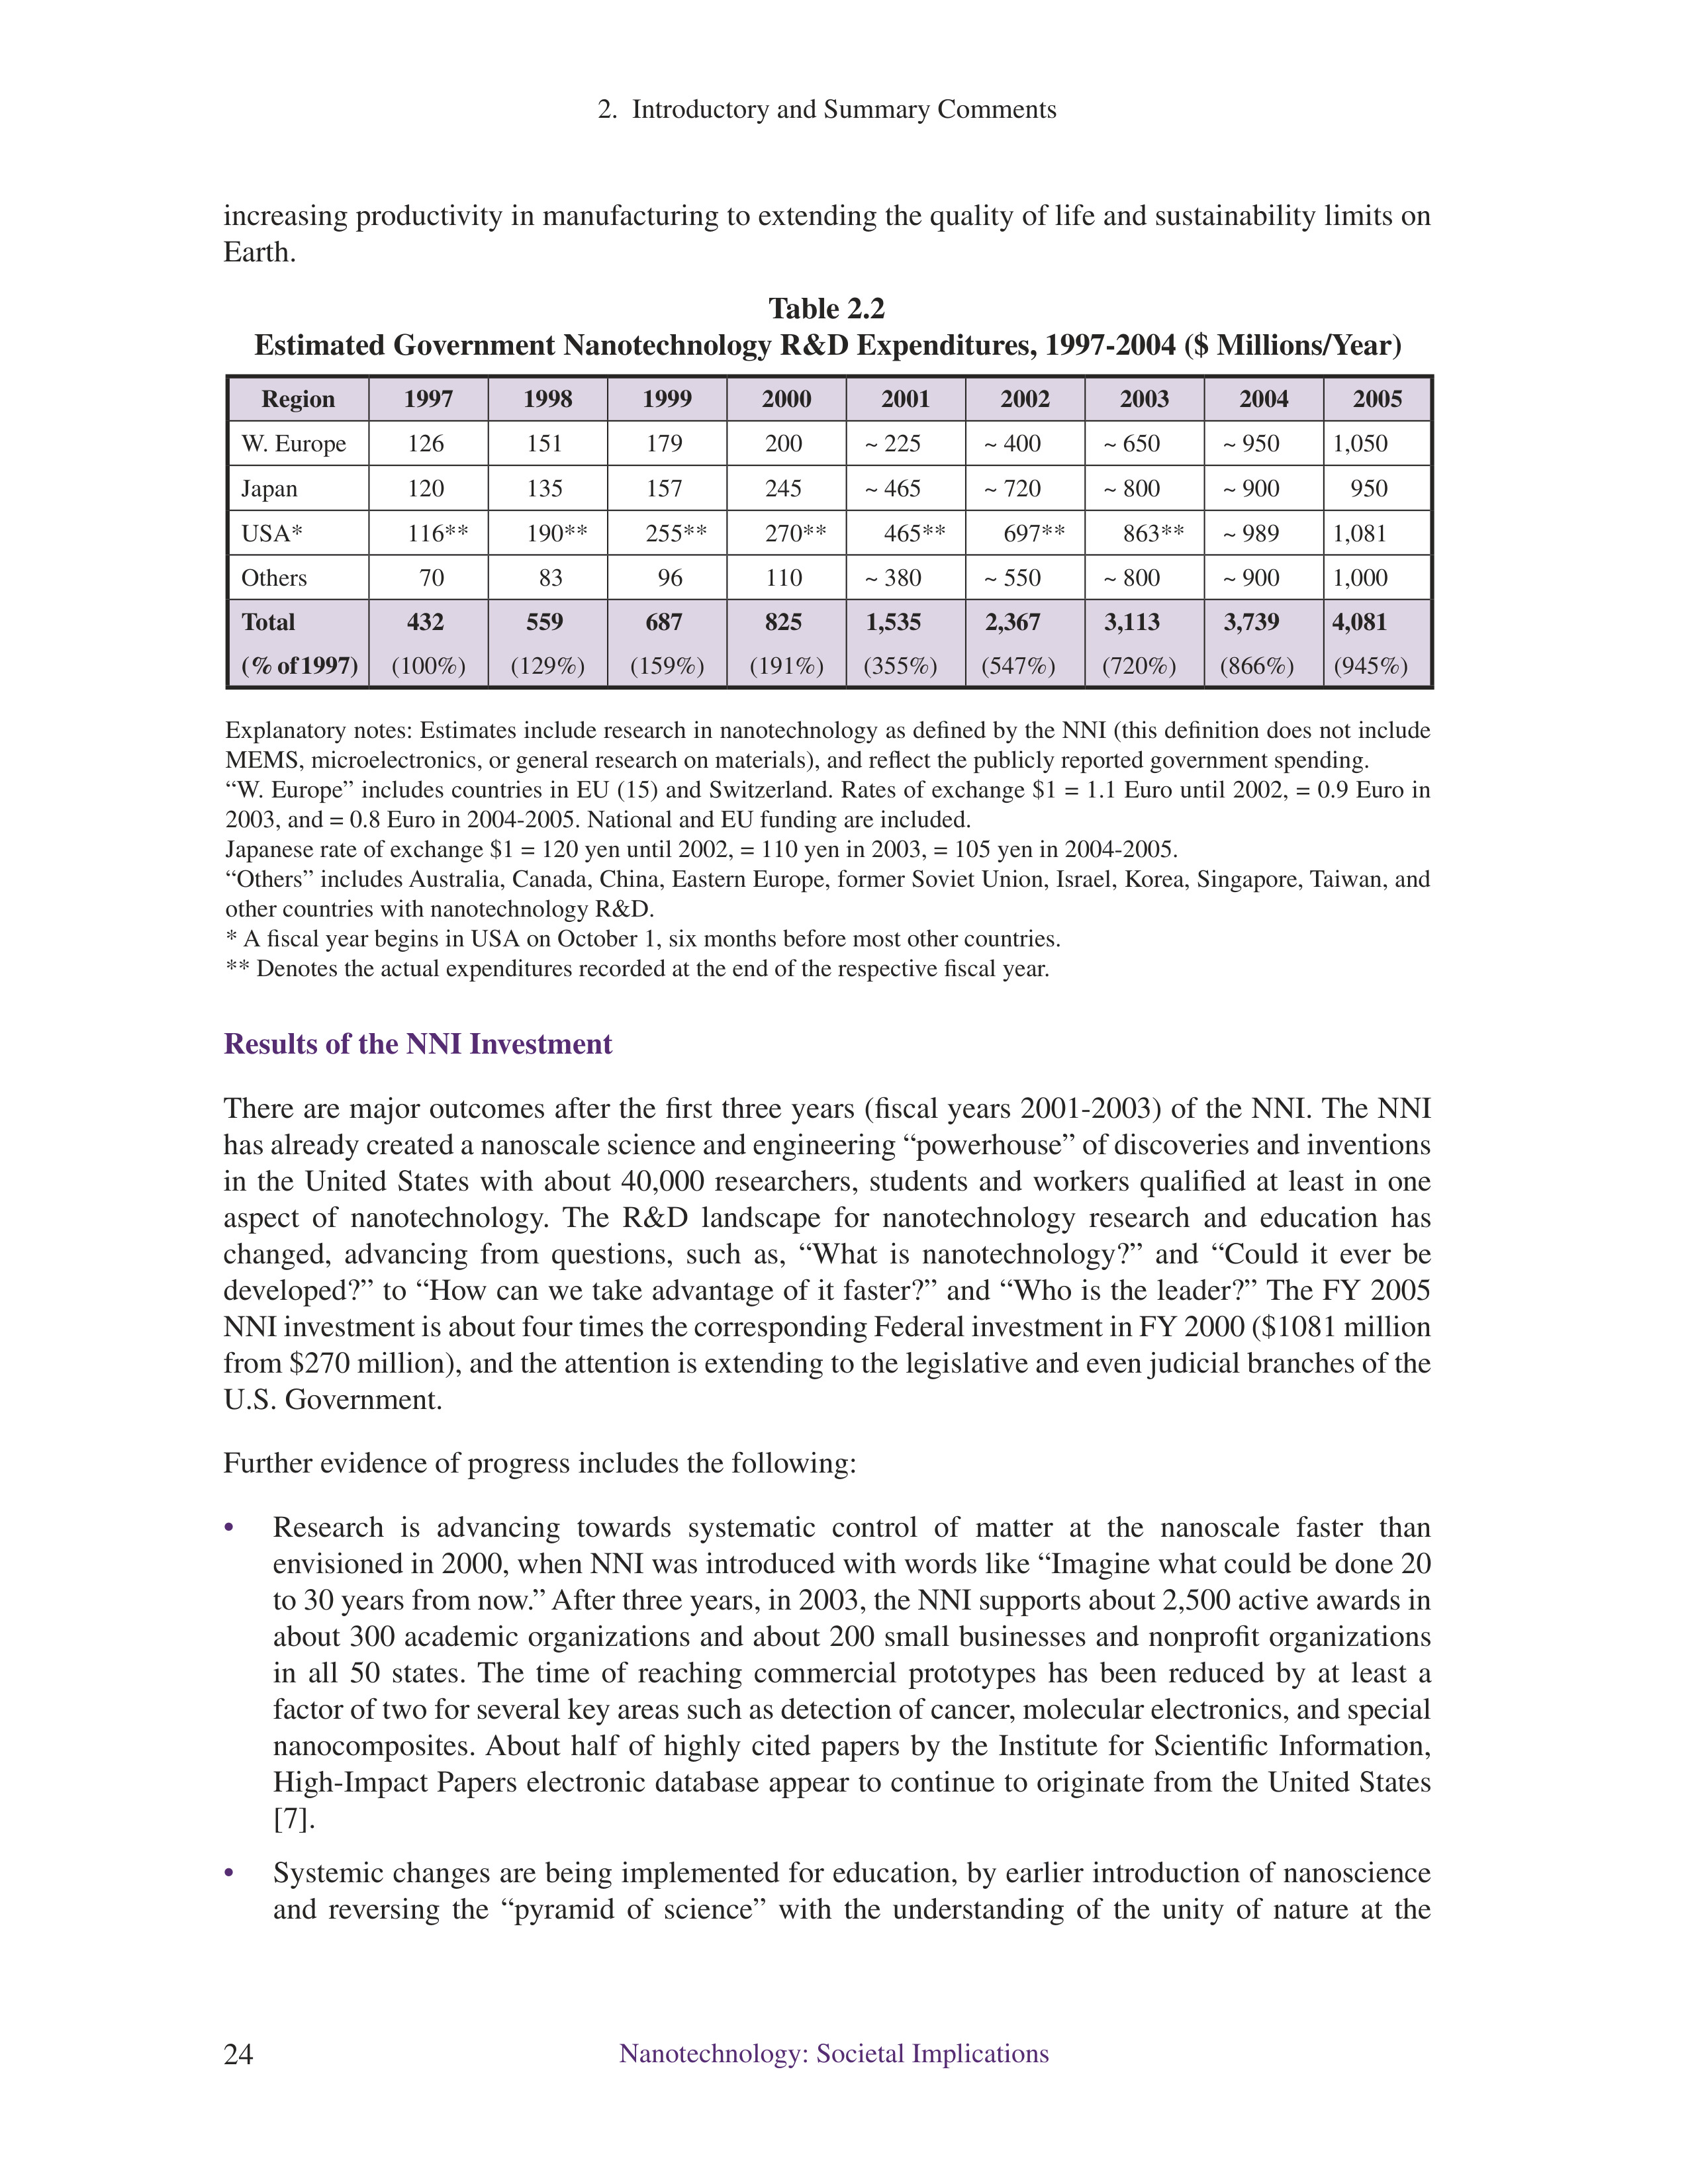table: (241, 383, 1408, 679)
